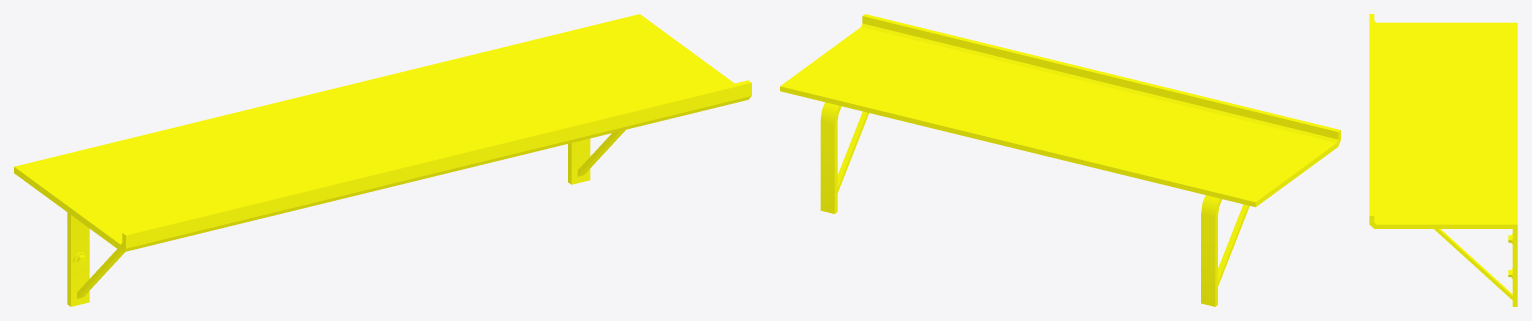
Rendered from hanging_shelf_mx_1.glb.
3 renders of one model, left to right at view 1: azimuth 30°, elevation 25°; view 2: azimuth 150°, elevation 25°; view 3: azimuth 270°, elevation 25°, orthographic. The views are drawn at different scales.
Parts seen in each view (by area): view 1: hanging_shelf_mx_1; view 2: hanging_shelf_mx_1; view 3: hanging_shelf_mx_1.
Boxes of the visible parts, box(x1,y1,x2,y2) form: hanging_shelf_mx_1: box(14, 14, 751, 306); hanging_shelf_mx_1: box(780, 14, 1340, 306); hanging_shelf_mx_1: box(1369, 14, 1517, 306).
Size of the model in its own units: 1 by 0.25 by 0.31.
1 material, 1 textured.
